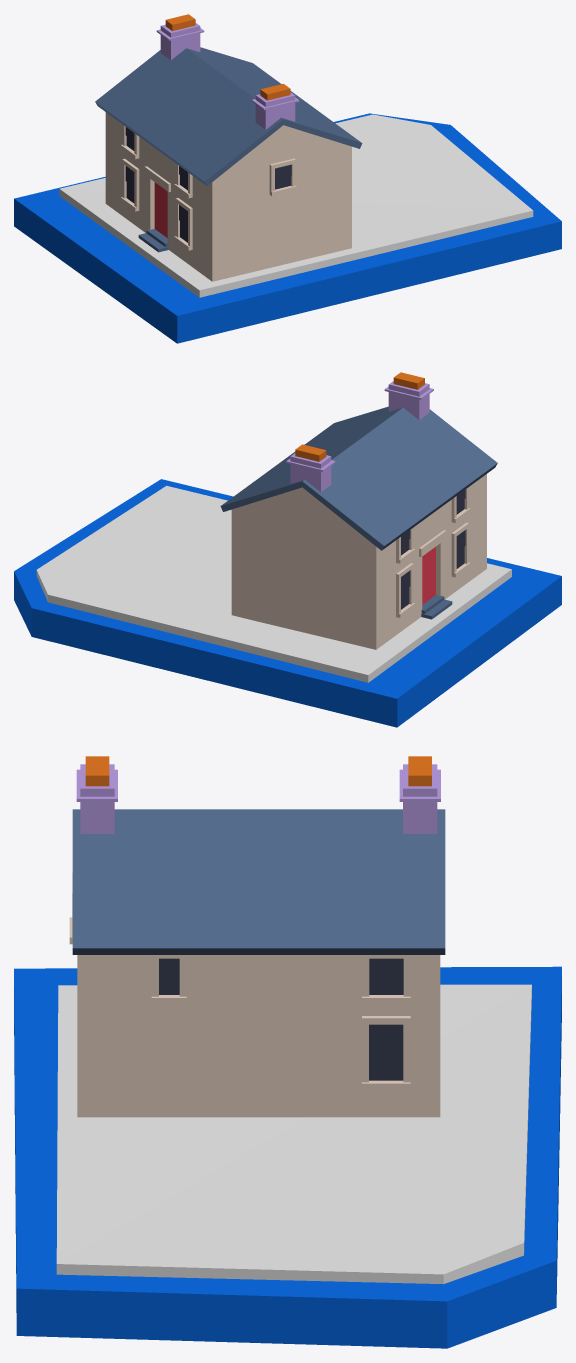
The model's file is Cottage Building3.fbx.
The picture shows the model from 3 angles, top to bottom: view 1: azimuth 30°, elevation 25°; view 2: azimuth 150°, elevation 25°; view 3: azimuth 270°, elevation 25°; orthographic projection. The views are drawn at different scales.
Visible parts, largest first — view 1: Cottage Foundation, Cube.004, Cotage Landscape, Cottage Slate, Cottage Stone, Cottage Window, Cottage Terra, Cottage Dark Wood.001; view 2: Cotage Landscape, Cottage Foundation, Cube.004, Cottage Slate, Cottage Stone, Cottage Window, Cottage Terra, Cottage Dark Wood.001; view 3: Cotage Landscape, Cottage Foundation, Cube.004, Cottage Slate, Cottage Stone, Cottage Window, Cottage Terra.
Part boxes in pixels (box(x1,y1,x2,y2)): Cottage Foundation: box(14, 113, 561, 343); Cube.004: box(105, 112, 351, 281); Cotage Landscape: box(59, 114, 533, 297); Cottage Slate: box(95, 47, 362, 252); Cottage Stone: box(156, 23, 299, 129); Cottage Window: box(125, 127, 291, 242); Cottage Terra: box(165, 14, 290, 100); Cottage Dark Wood.001: box(154, 182, 167, 237); Cotage Landscape: box(36, 485, 511, 682); Cottage Foundation: box(14, 479, 561, 727); Cube.004: box(231, 474, 486, 649); Cottage Slate: box(220, 406, 497, 619); Cottage Stone: box(286, 381, 433, 491); Cottage Window: box(401, 489, 465, 609); Cottage Terra: box(295, 372, 424, 461); Cottage Dark Wood.001: box(422, 547, 435, 604); Cotage Landscape: box(56, 984, 531, 1284); Cottage Foundation: box(14, 966, 561, 1348); Cube.004: box(69, 873, 440, 1117); Cottage Slate: box(72, 809, 445, 954); Cottage Stone: box(76, 764, 440, 833); Cottage Window: box(159, 958, 403, 1080); Cottage Terra: box(85, 756, 431, 786).
Size of the model in its own units: 25.65 by 12.58 by 17.75.
